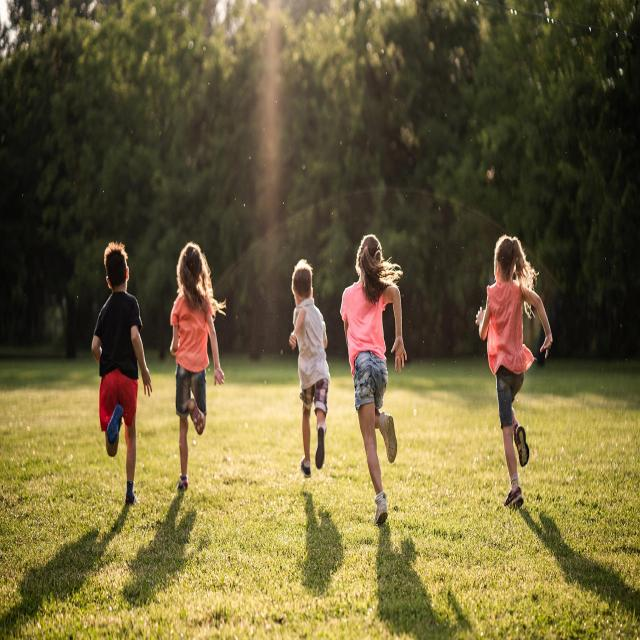Person: (475, 235, 553, 509), (341, 233, 407, 526), (92, 242, 153, 507), (169, 242, 224, 492), (290, 259, 330, 480)
